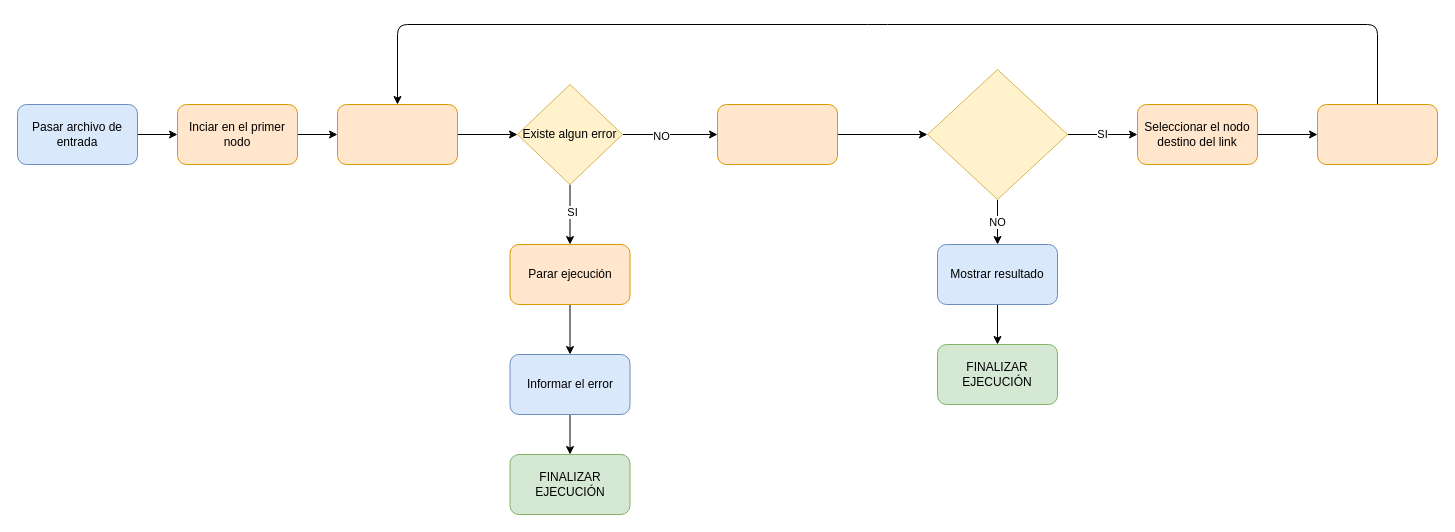
The diagram is 1455 pixels wide and 532 high, and some of its shapes have lost their labels. The centre of each missing label's shape, as x and y in pixels:
"Aplicar predicate" goes at (x=777, y=134).
"Cargar en el archivo de entrada la salida del anterior" goes at (x=1377, y=134).
"El resultado del predicate coinicide con algun link" goes at (x=997, y=134).
"Iniciar ejecucion en nodo actual" goes at (x=397, y=134).
